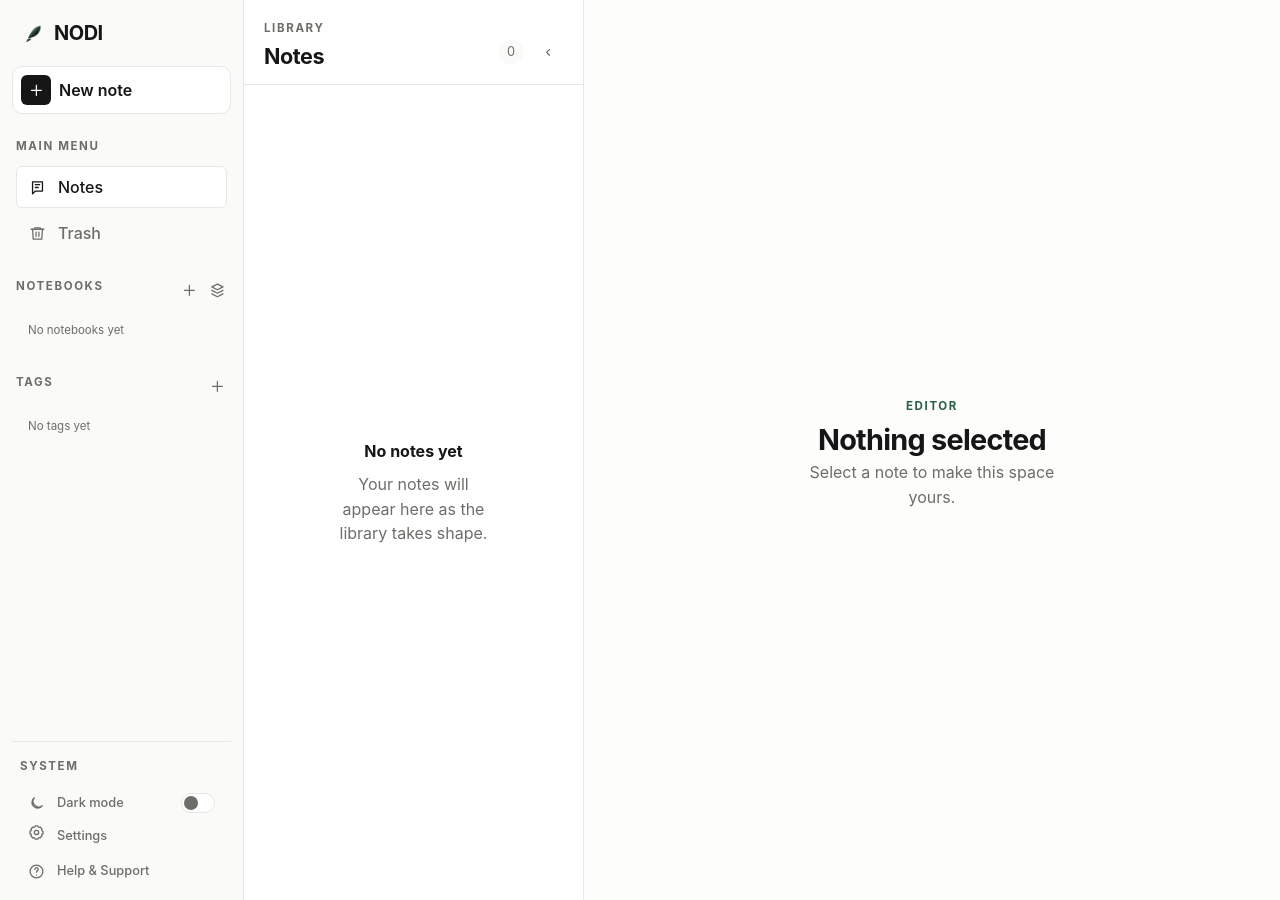
it: NODI app › restores a selected note from Trash
Expected: the text "No notes yet" is shown, [364,441,463,461]
Click the button "Trash" at x=122, y=233, box [16,212,227,254]
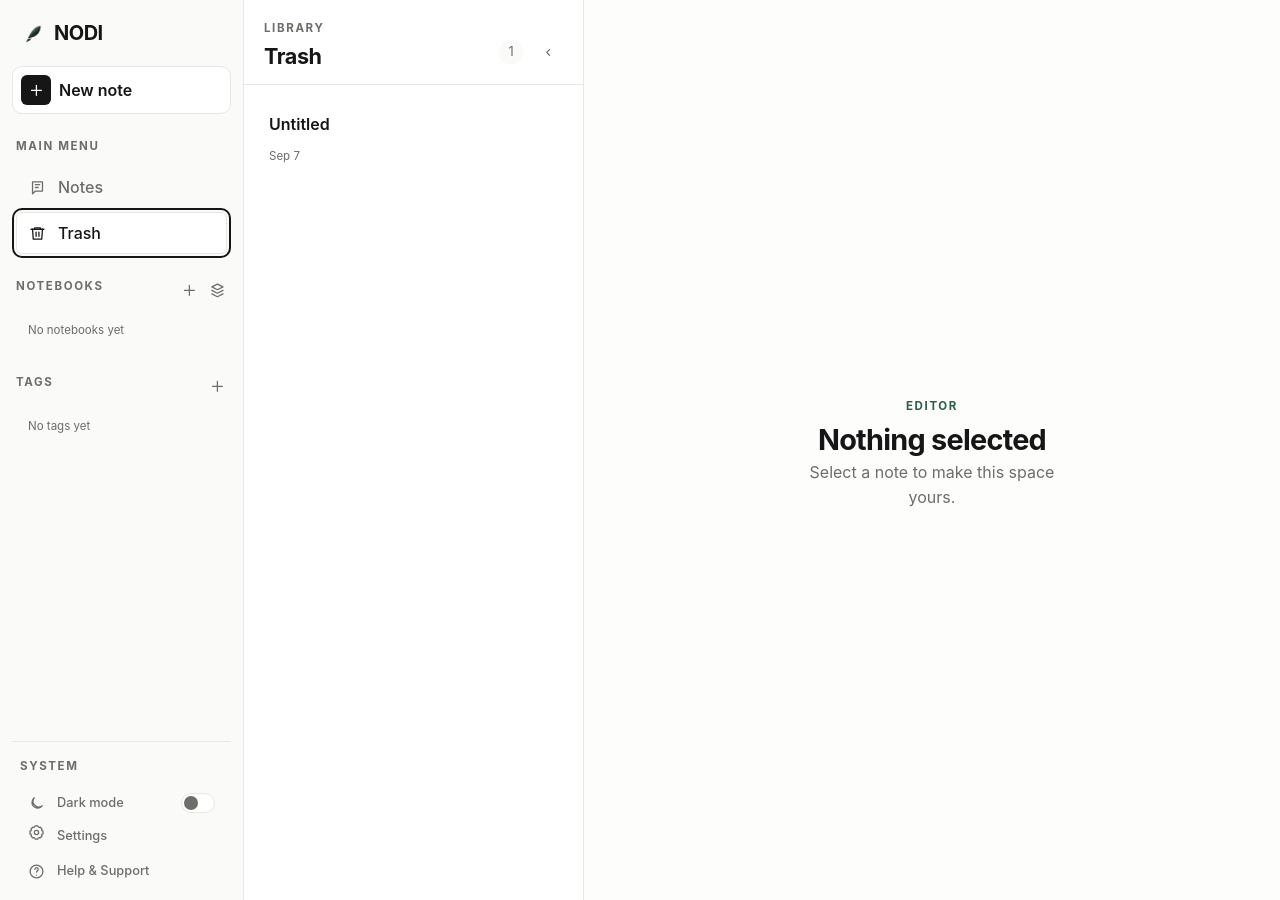
Click the option "Untitled Sep 7" at x=299, y=124, box [269,114,330,163]
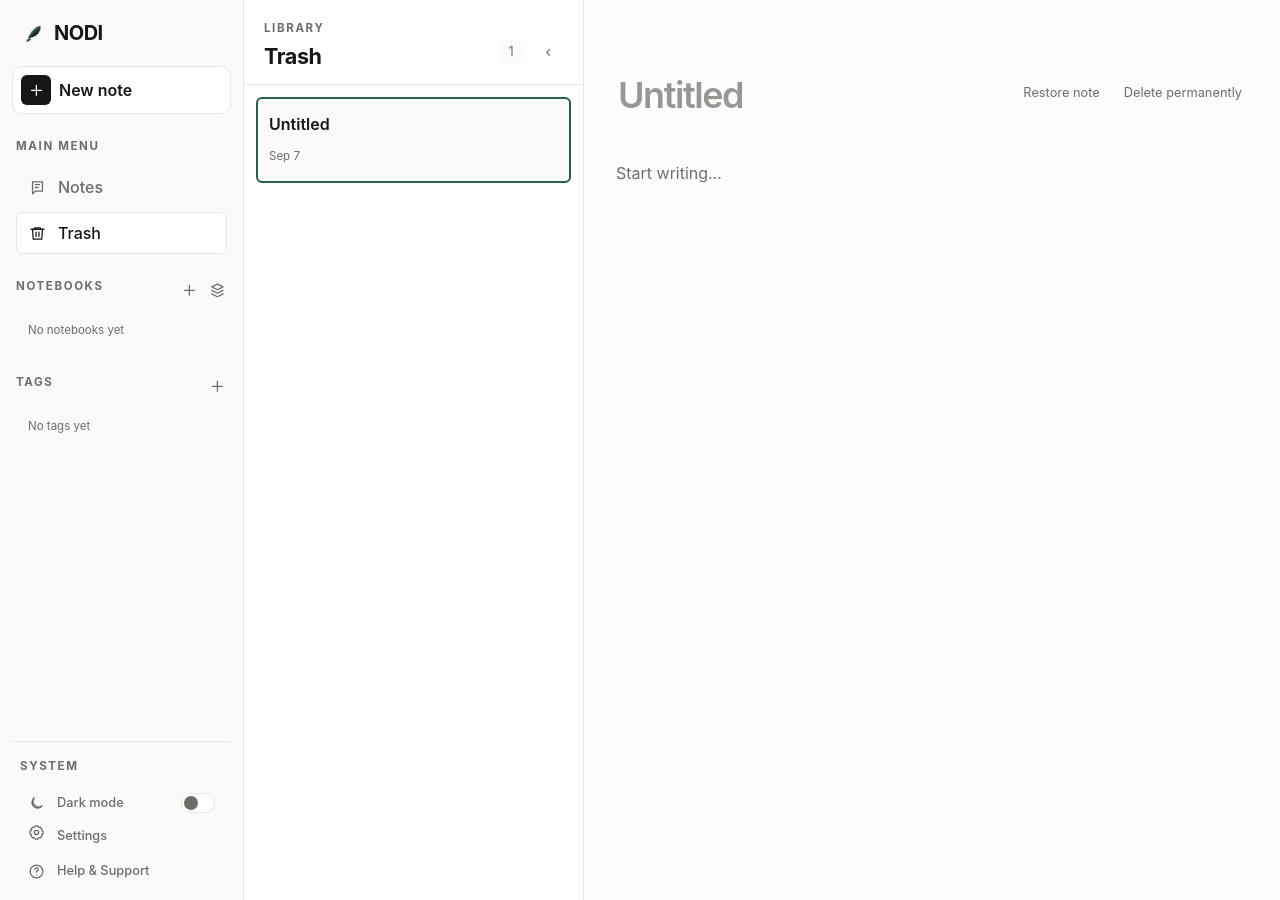
Click the button "Restore note" at x=1062, y=93, box [1017,80,1106,106]
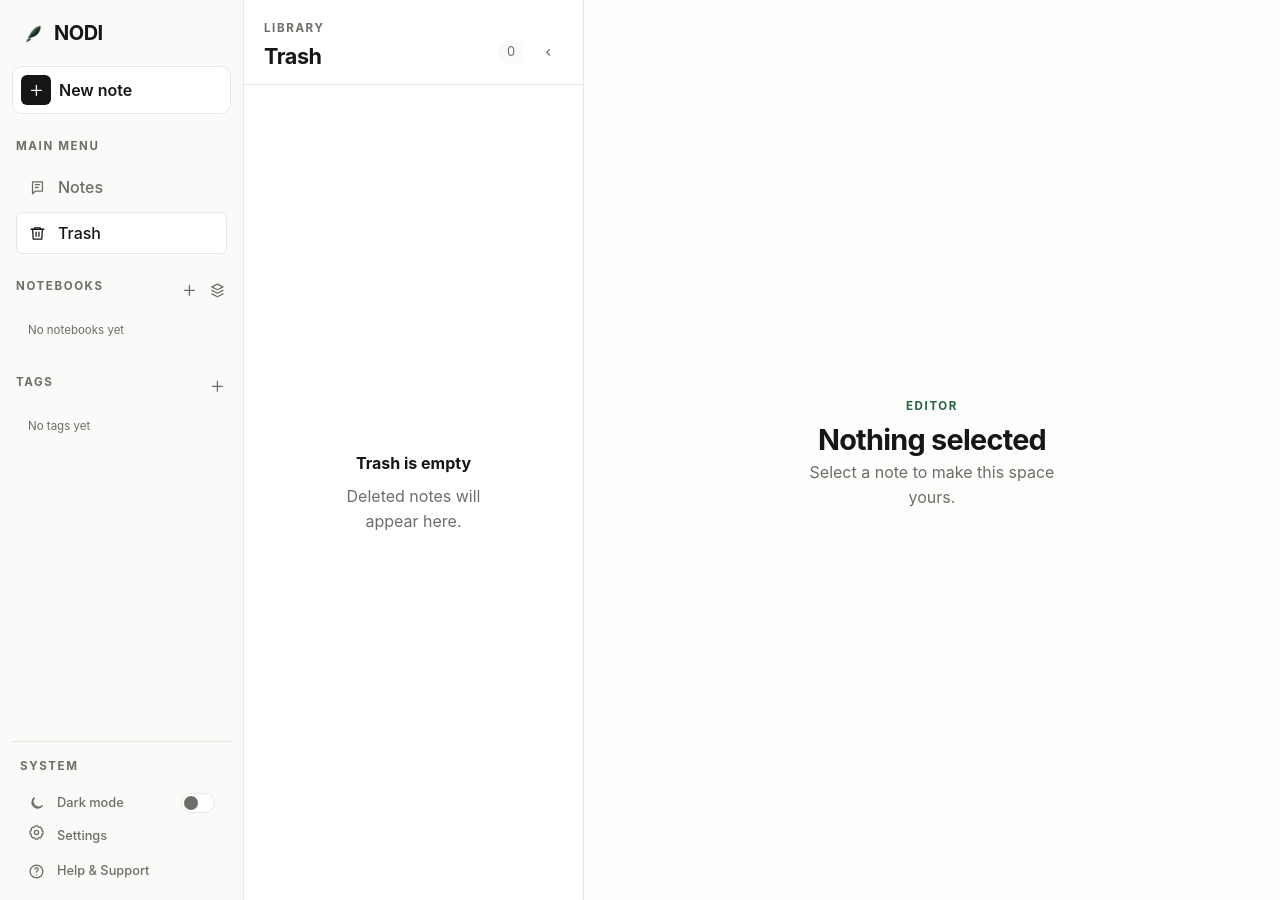
Result: the text "Trash is empty" is shown at [356,453,471,473]
